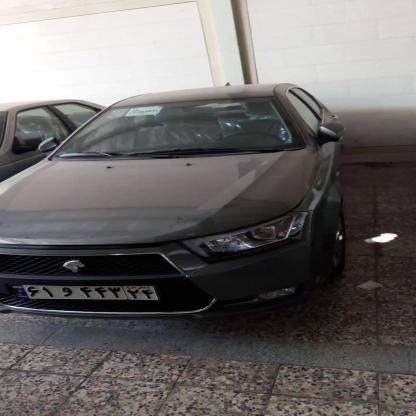Car: (0, 86, 359, 332), (0, 101, 128, 179)
